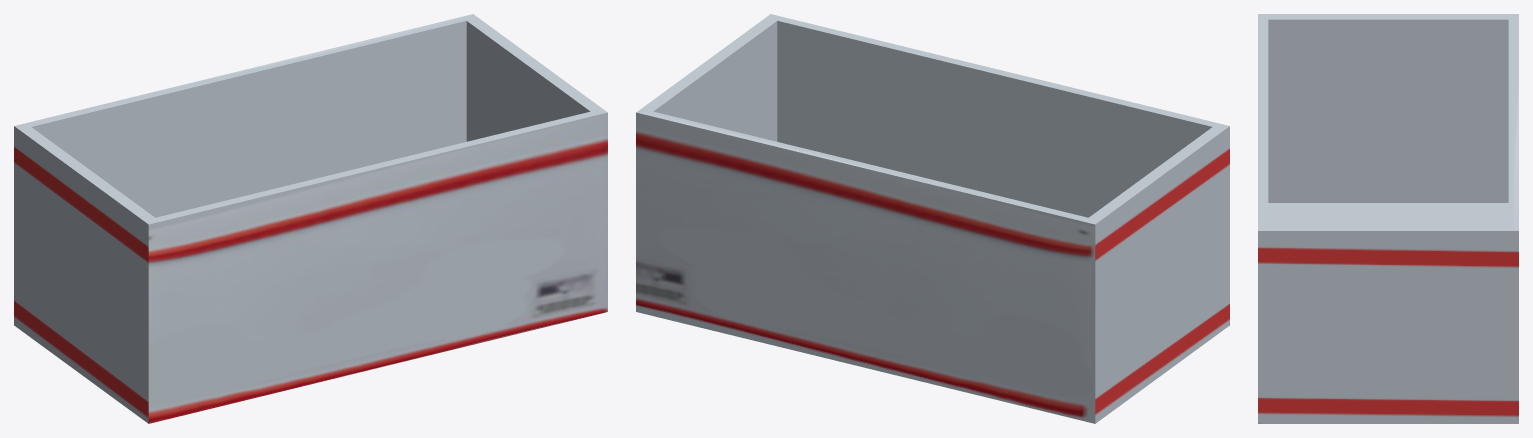
Rendered from Refrigerator_1.fbx.
3 renders of one model, left to right at view 1: azimuth 30°, elevation 25°; view 2: azimuth 150°, elevation 25°; view 3: azimuth 270°, elevation 25°, orthographic. The views are drawn at different scales.
Parts seen in each view (by area): view 1: pCube2; view 2: pCube2; view 3: pCube2.
Part boxes in pixels (bbox=[...]): pCube2: bbox=[14, 14, 607, 423]; pCube2: bbox=[636, 14, 1229, 423]; pCube2: bbox=[1258, 14, 1518, 423].
Bounding box in the file's own units: 21.82 × 9.06 × 11.08.
1 material, 1 textured.
